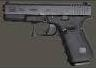gun: (1, 1, 96, 68)
